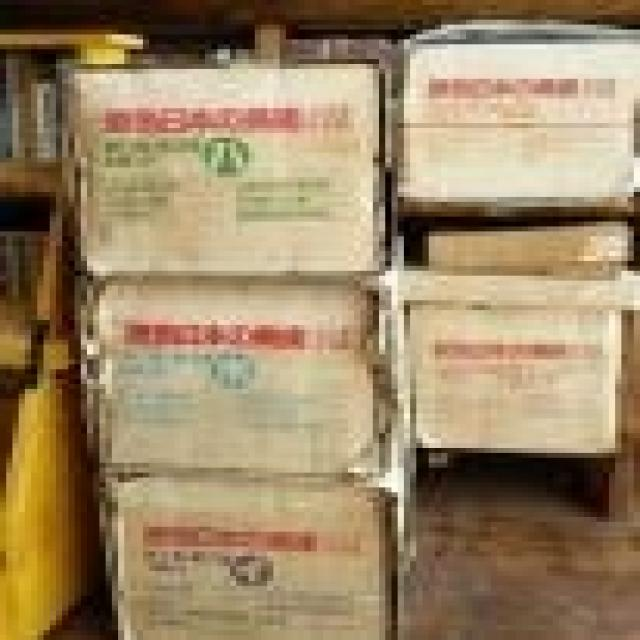box: (56, 59, 391, 281), (75, 276, 398, 478), (87, 463, 404, 640), (398, 276, 640, 458), (398, 44, 640, 207)
